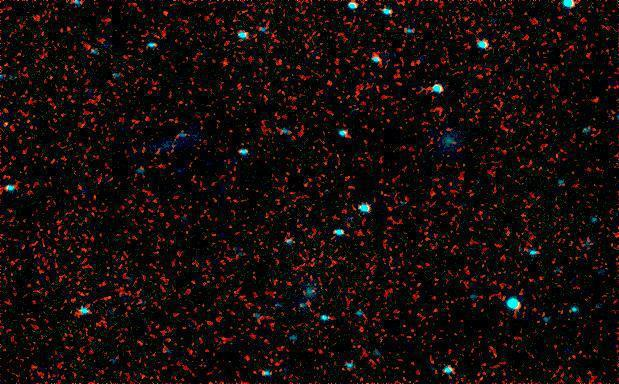star: (153, 2, 183, 32)
